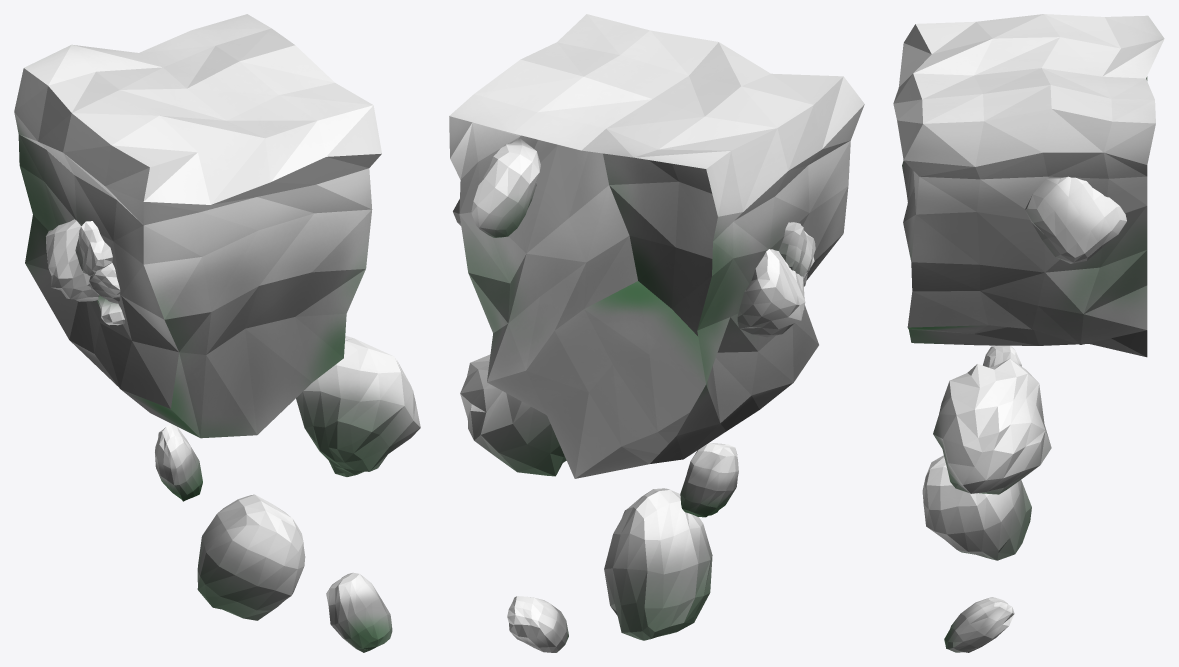
Rendered from StanderdPlatform04_TEX.FBX.
The picture shows the model from 3 angles, left to right: view 1: azimuth 30°, elevation 25°; view 2: azimuth 150°, elevation 25°; view 3: azimuth 270°, elevation 25°; orthographic projection. The views are drawn at different scales.
Visible parts, largest first — view 1: Box038; view 2: Box038; view 3: Box038.
Boxes of the visible parts, x1,y1,x2,y2 form: Box038: [14, 14, 420, 652]; Box038: [449, 14, 864, 652]; Box038: [893, 14, 1164, 652].
Size of the model in its own units: 86.8 by 143 by 65.96.
1 material, 1 textured.
